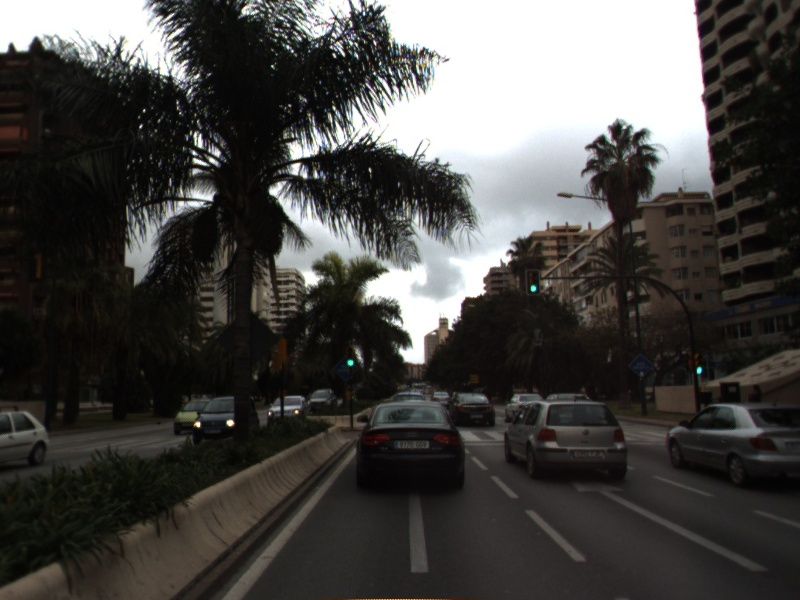STRAIGHT: (570, 475, 773, 575)
